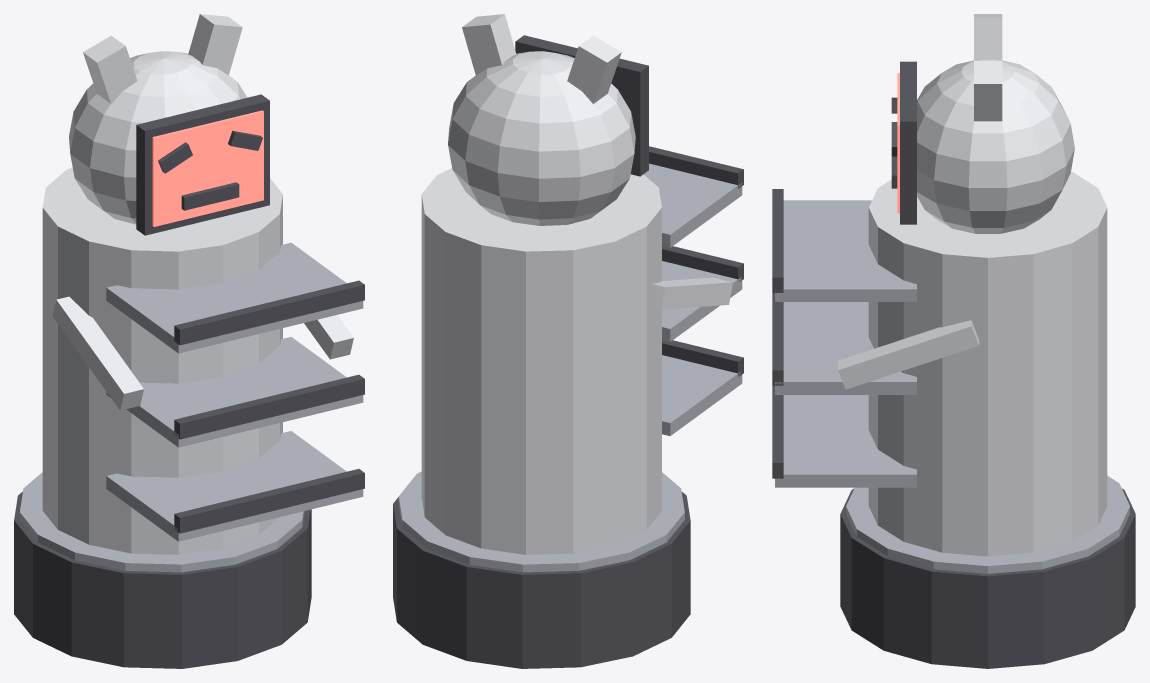
The model's file is serving_bot.glb.
3 views of the same model, side by side, from view 1: azimuth 30°, elevation 25°; view 2: azimuth 150°, elevation 25°; view 3: azimuth 270°, elevation 25° (orthographic).
Parts seen in each view (by area): view 1: ServingBot, Head, ArmR, ArmL; view 2: ServingBot, Head, ArmR; view 3: ServingBot, Head, ArmL.
Boxes of the visible parts, box(x1,y1,x2,y2) form: ServingBot: box(14, 167, 364, 668); Head: box(69, 14, 269, 235); ArmR: box(52, 296, 143, 410); ArmL: box(283, 243, 353, 359); ServingBot: box(393, 146, 743, 668); Head: box(448, 14, 648, 225); ArmR: box(649, 277, 732, 309); ServingBot: box(772, 171, 1135, 668); Head: box(891, 14, 1074, 233); ArmL: box(838, 320, 979, 389).
Bounding box in the file's own units: 1.04 × 2.2 × 1.28.
